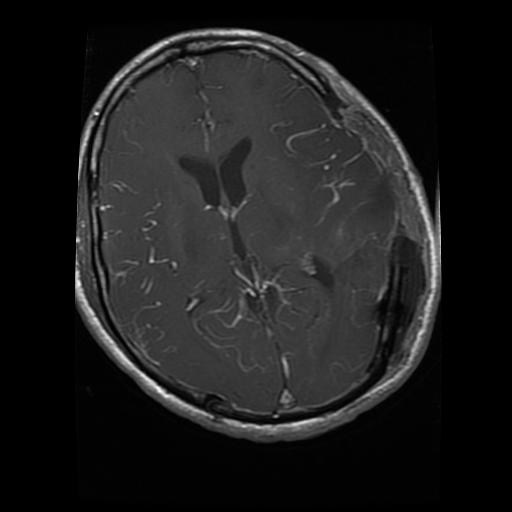Gliomia_tumour: (332, 233, 425, 373)
